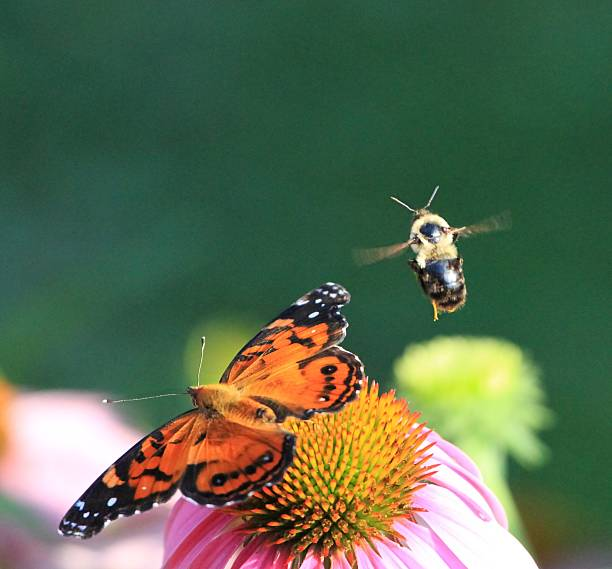Butterfly: (58, 281, 365, 540)
